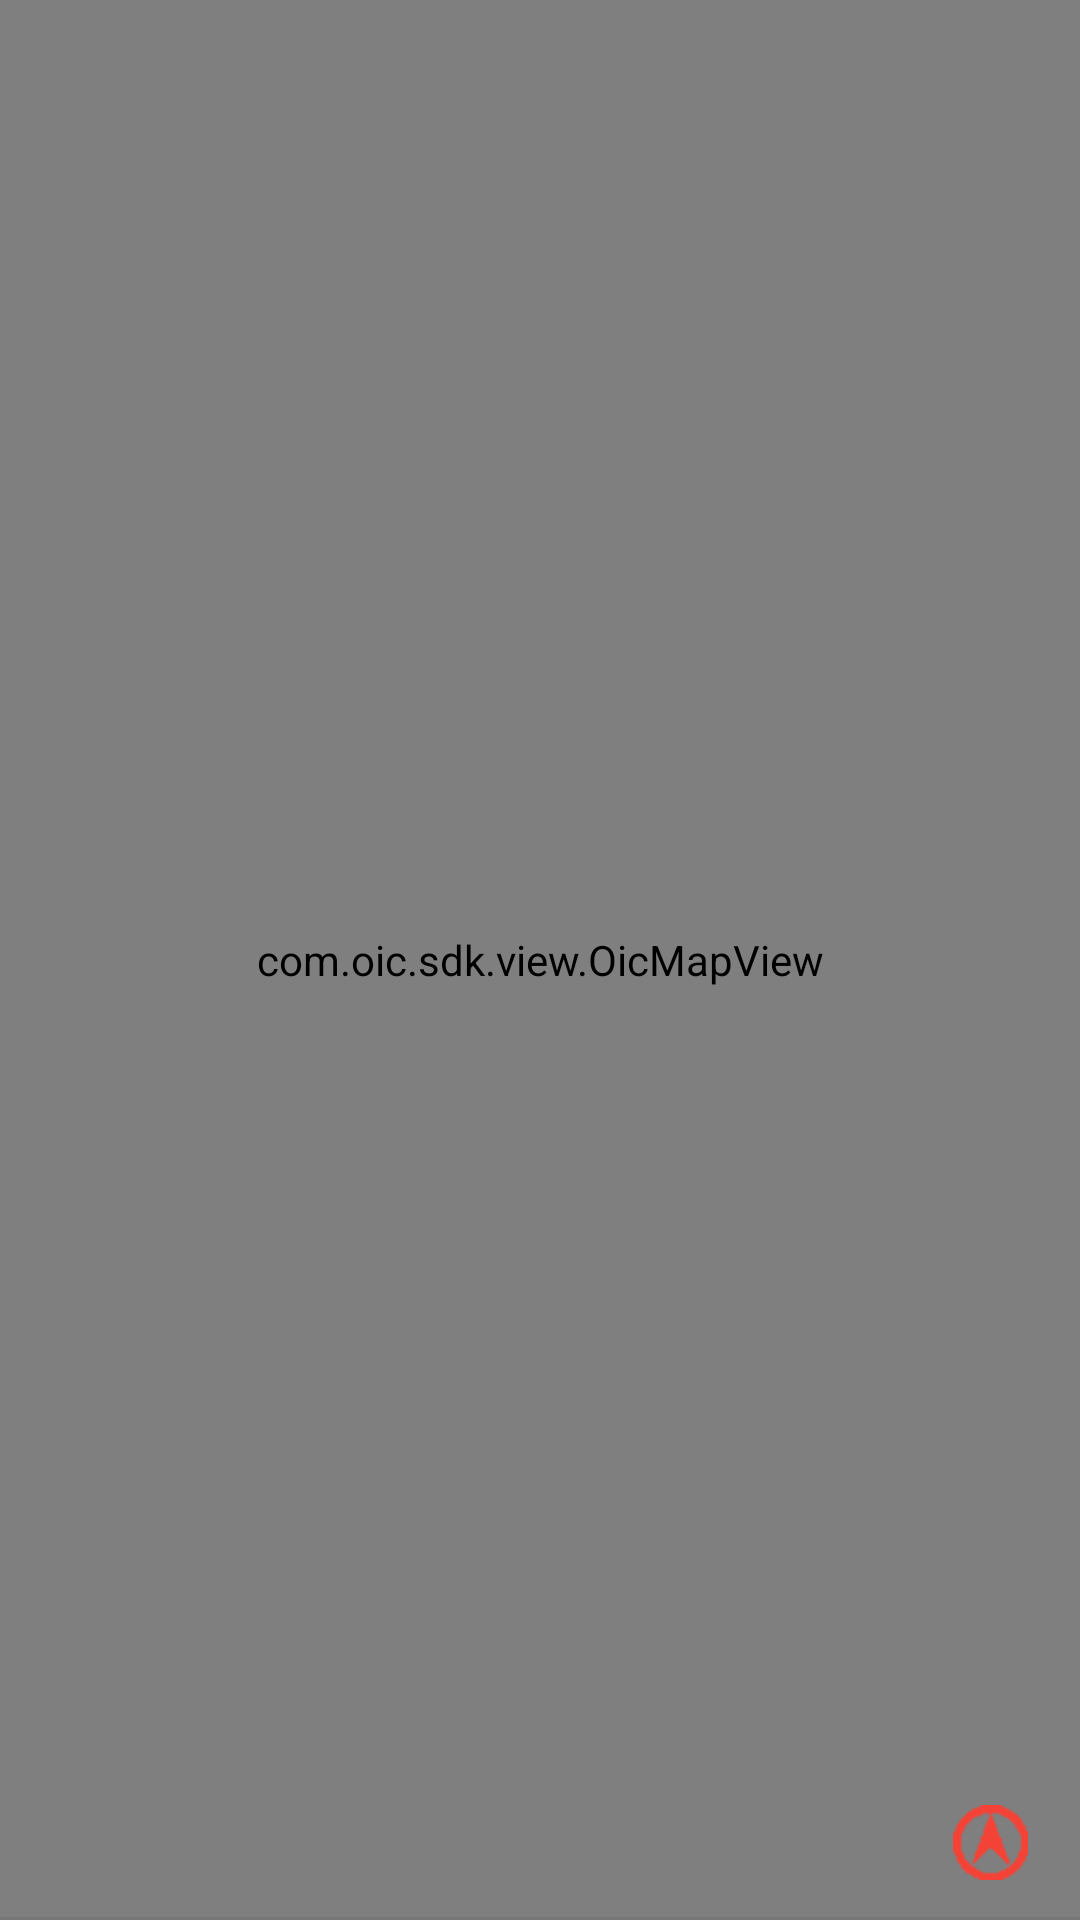

Named icons in this screenshot (1080 × 1920) and their centers, (x=x, y=y):
direction: (x=990, y=1842)
